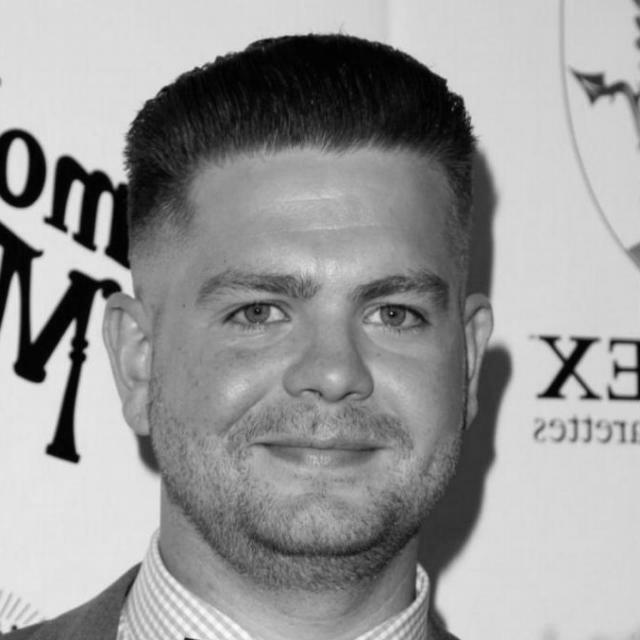real: (106, 54, 502, 580)
